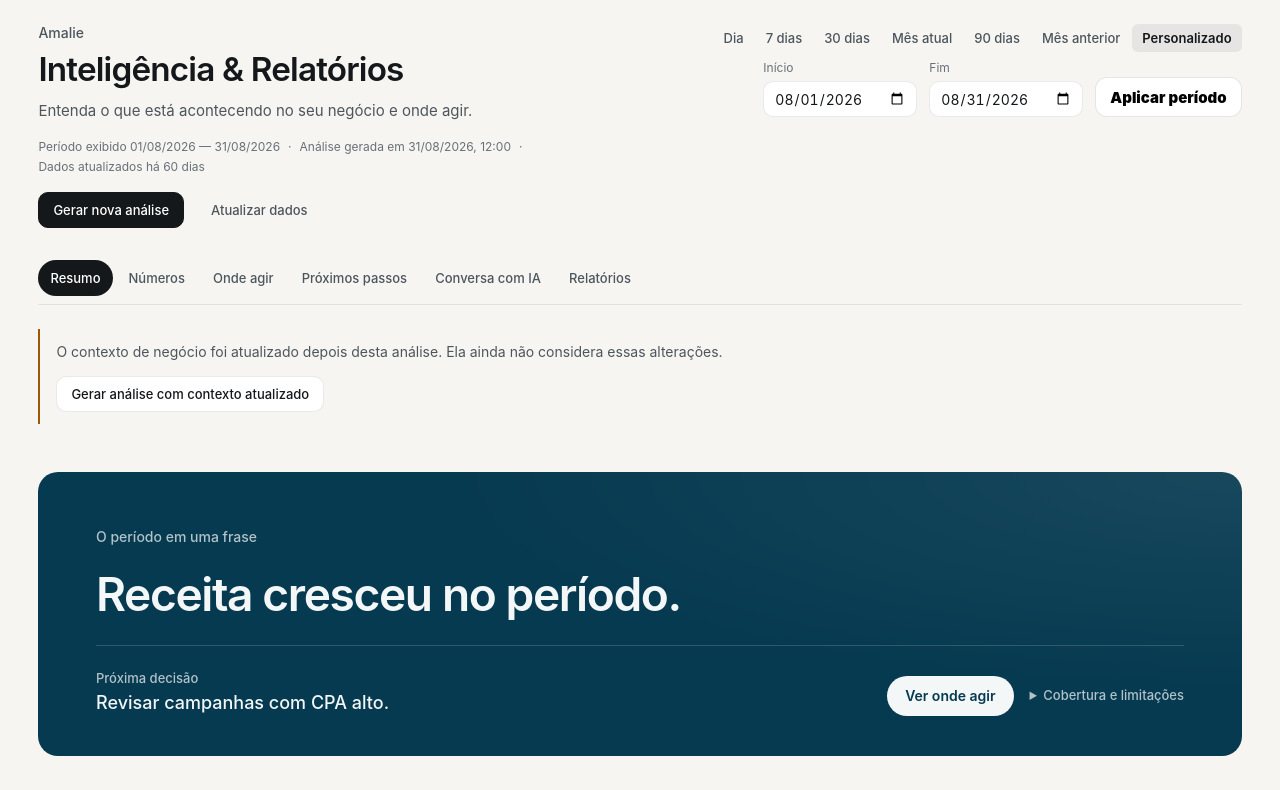
Test case: Intelligence — atualização do contexto de negócio › avisa que análise antiga não usa o contexto atualizado e só gera após ação explícita
This screenshot has width=1280, height=790.
Expected: the message with test id "intel-context-updated" shows "ainda não considera essas alterações", [56,343,723,360]
Expected: the text with class "intelMomentLead" reads "Receita cresceu no período.", [96,566,681,622]
Click the button "Gerar análise com contexto atualizado".
click(190, 394)  # box [56,376,324,412]
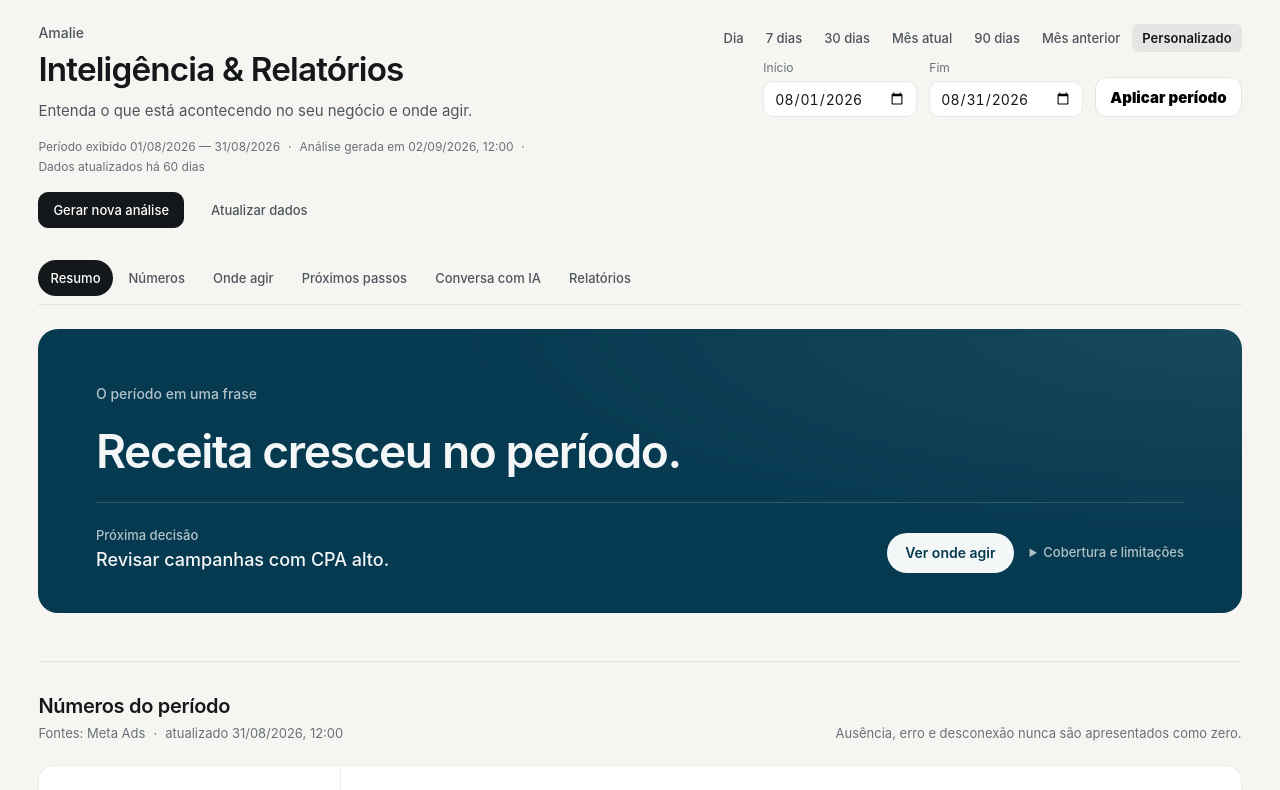
Expected: the message with test id "intel-context-updated" is gone
